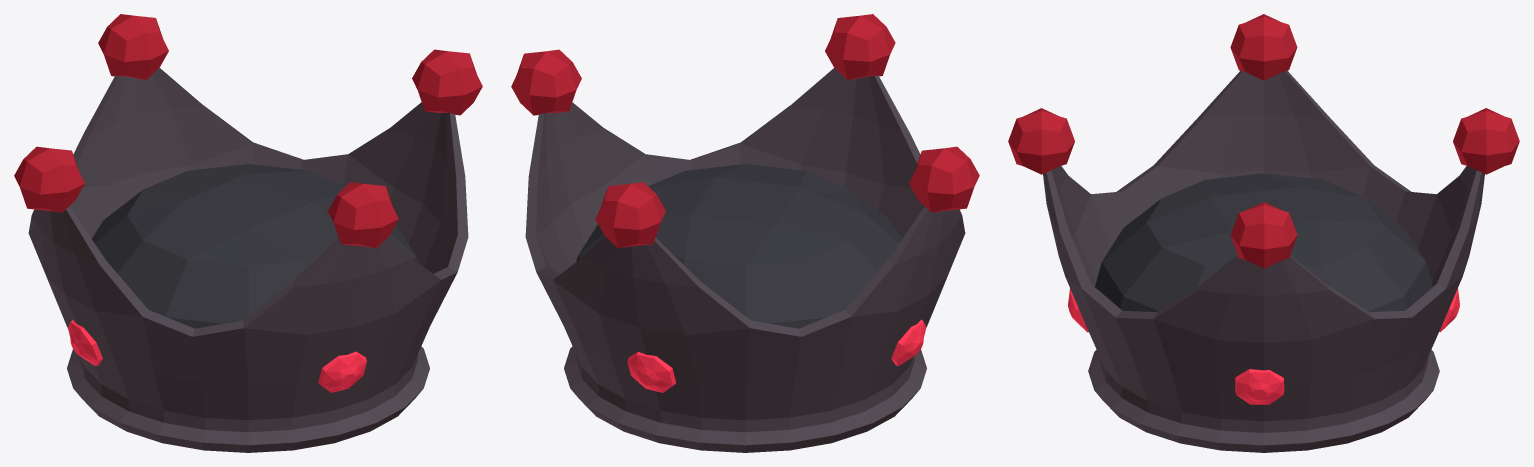
File: Cosmetic_VampireCrown.glb
3 views of the same model, side by side, from view 1: azimuth 30°, elevation 25°; view 2: azimuth 150°, elevation 25°; view 3: azimuth 270°, elevation 25° (orthographic). The views are drawn at different scales.
Parts seen in each view (by area): view 1: GC_VampireCrown; view 2: GC_VampireCrown; view 3: GC_VampireCrown.
Part boxes in pixels (x1,y1,x2,y2): GC_VampireCrown: [14, 14, 482, 452]; GC_VampireCrown: [511, 14, 979, 452]; GC_VampireCrown: [1008, 14, 1519, 452].
Bounding box in the file's own units: 0.5497 × 0.3217 × 0.5497.
